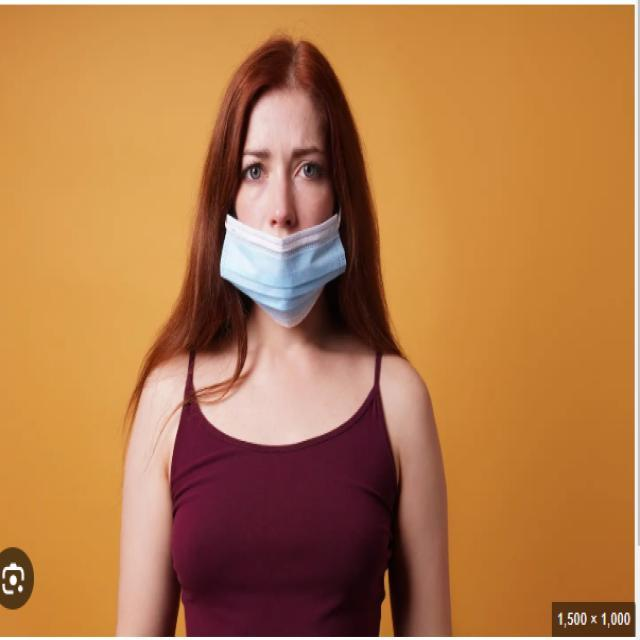face_half_mask: (232, 82, 344, 308)
